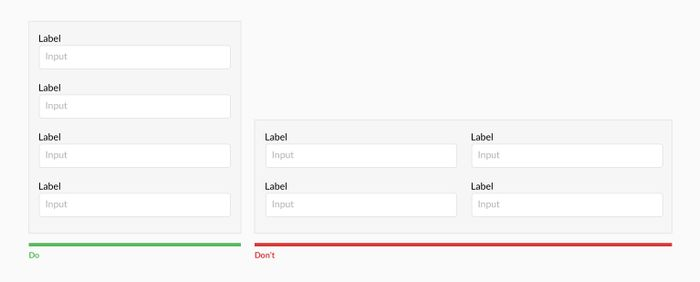_form_: (254, 1, 671, 282), (1, 1, 416, 282)
field: (467, 139, 665, 171), (264, 140, 460, 171), (37, 91, 234, 121), (468, 190, 665, 220), (36, 190, 232, 220), (37, 43, 231, 72), (37, 141, 231, 170), (264, 190, 458, 218)
field_with_label: (468, 130, 669, 174), (33, 81, 237, 124), (465, 180, 668, 223), (34, 130, 235, 173), (260, 130, 463, 172), (34, 180, 235, 222), (261, 179, 460, 221), (36, 32, 234, 73)
